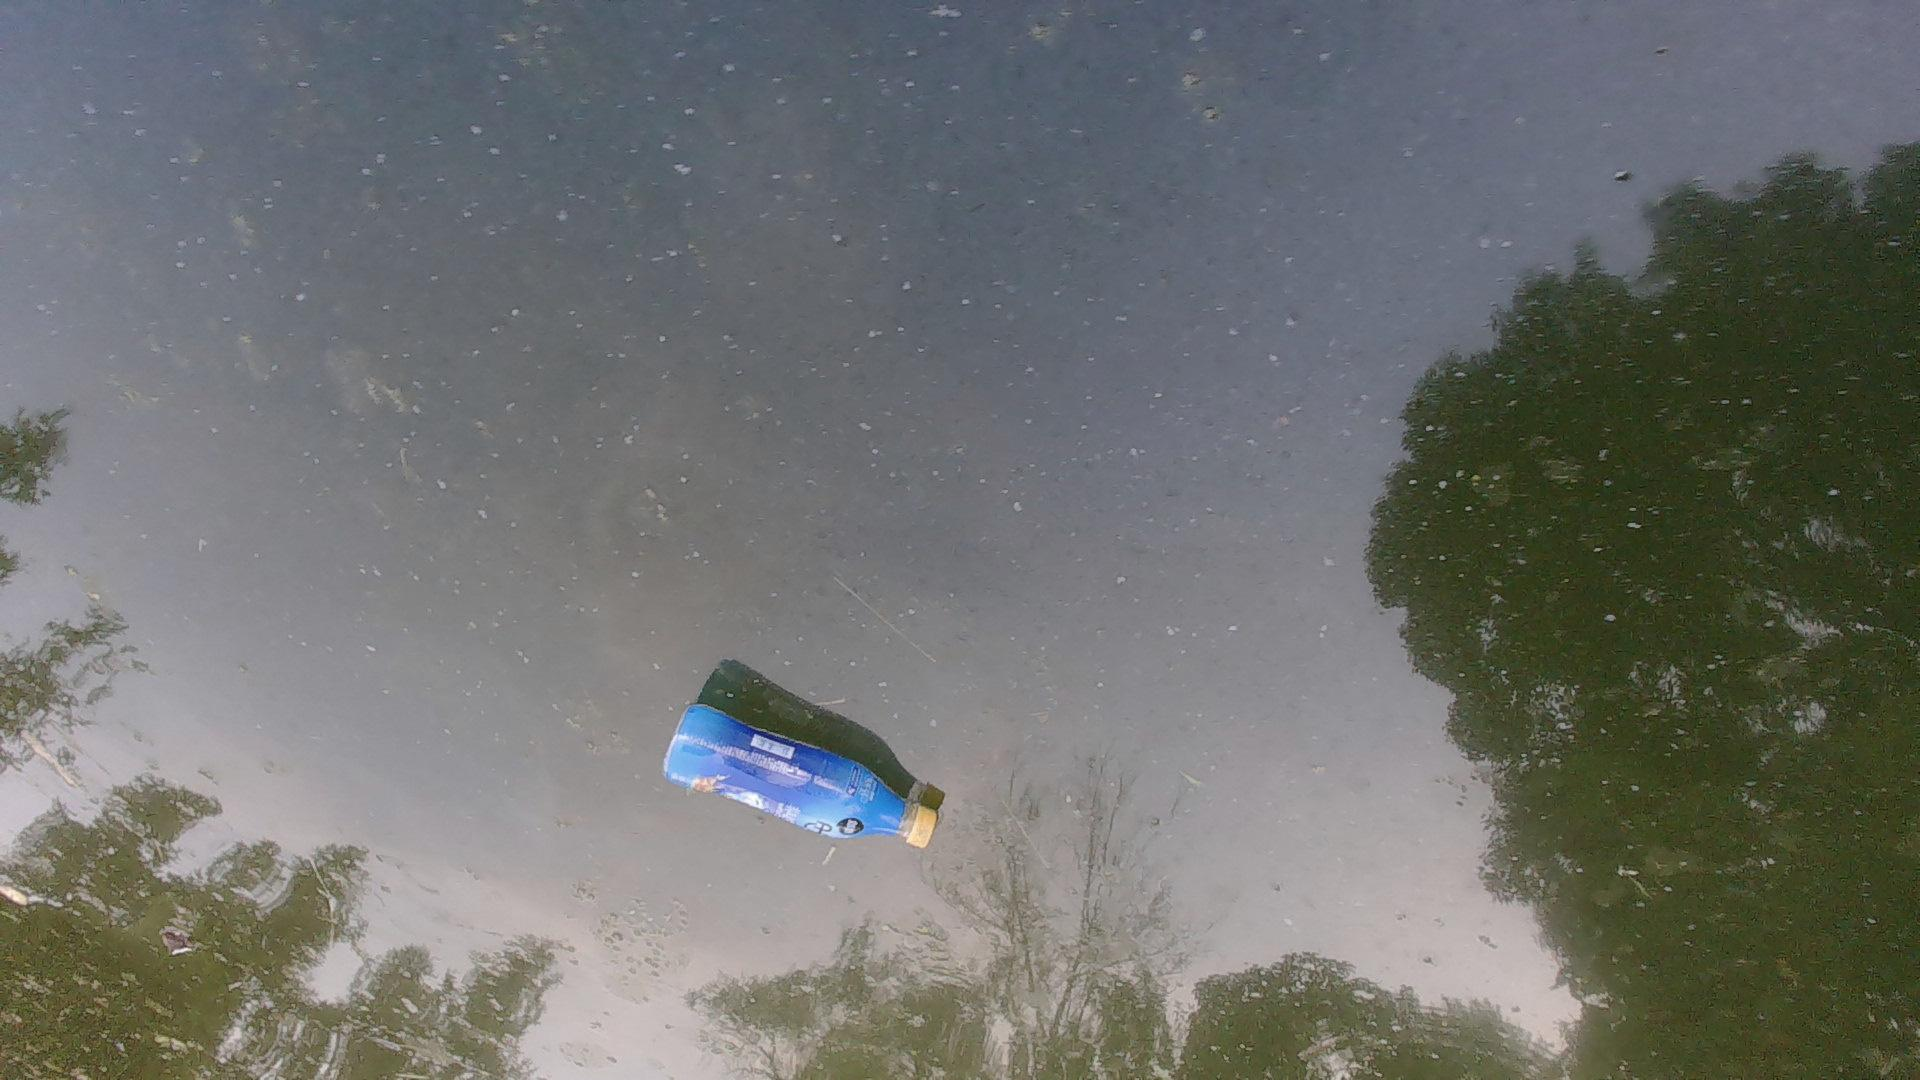Plastic: (657, 707, 947, 858)
